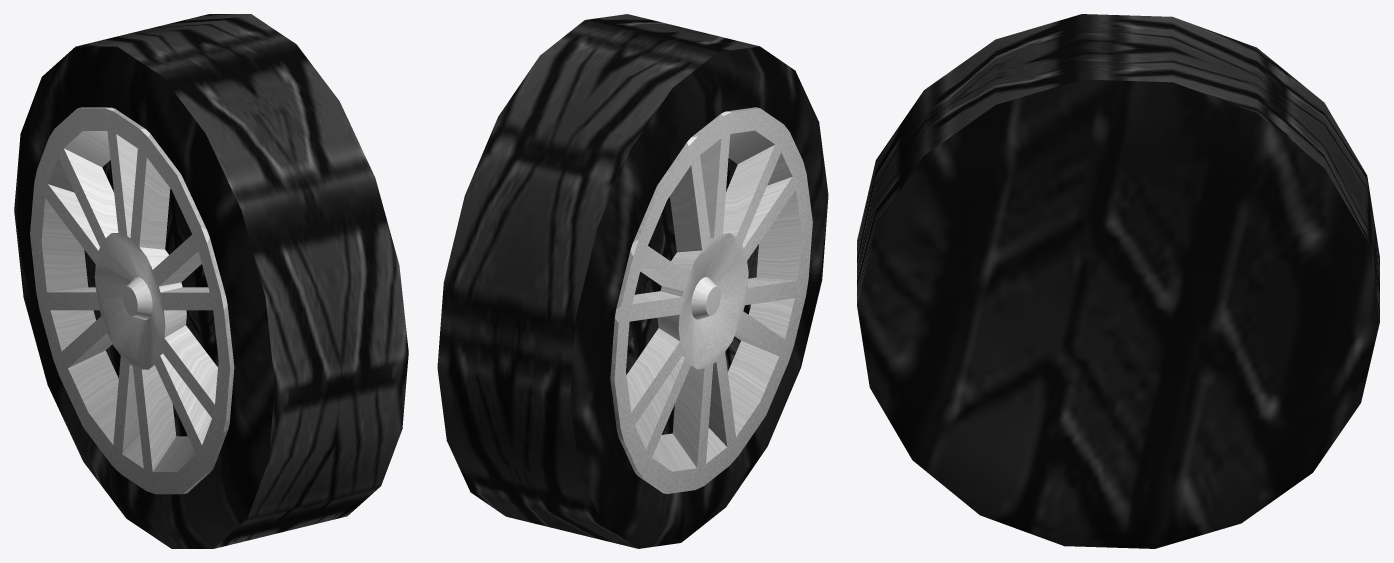
File: llanta_derecha.obj
The picture shows the model from 3 angles, left to right: view 1: azimuth 30°, elevation 25°; view 2: azimuth 150°, elevation 25°; view 3: azimuth 270°, elevation 25°; orthographic projection.
Visible parts, largest first — view 1: FL_Wheel.001_Plastic.004, FL_Wheel_Rims.004, FL_Wheel_Plastic.004, FL_Wheel.001_Rims.004; view 2: FL_Wheel.001_Plastic.004, FL_Wheel_Rims.004, FL_Wheel_Plastic.004, FL_Wheel.001_Rims.004; view 3: FL_Wheel.001_Plastic.004.
Part boxes in pixels (x1,y1,x2,y2): FL_Wheel.001_Plastic.004: [14, 14, 408, 548]; FL_Wheel_Rims.004: [30, 107, 230, 494]; FL_Wheel_Plastic.004: [84, 160, 218, 436]; FL_Wheel.001_Rims.004: [77, 107, 234, 493]; FL_Wheel.001_Plastic.004: [437, 14, 828, 548]; FL_Wheel_Rims.004: [614, 108, 812, 493]; FL_Wheel_Plastic.004: [626, 158, 758, 434]; FL_Wheel.001_Rims.004: [610, 107, 759, 493]; FL_Wheel.001_Plastic.004: [857, 14, 1379, 548].
Bounding box in the file's own units: 0.2095 × 0.5911 × 0.5966.
Materials: 2 (2 with a texture image).
